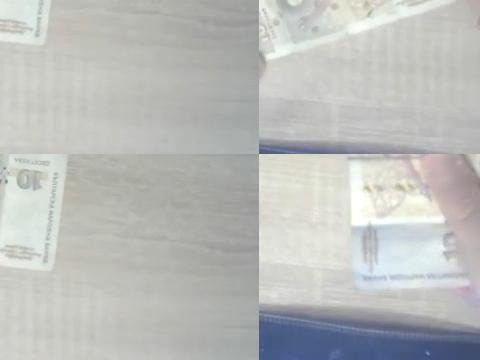10leva: (345, 154, 471, 290), (259, 0, 457, 59)
